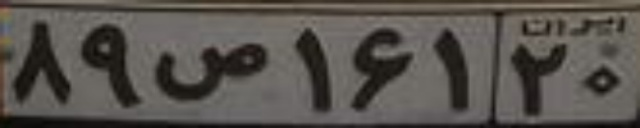0: (580, 64, 624, 96)
1: (294, 26, 330, 110), (432, 29, 467, 109)
2: (511, 43, 569, 115)
6: (346, 26, 411, 111)
8: (10, 20, 72, 105)
9: (80, 23, 138, 108)
saat: (152, 38, 270, 103)
